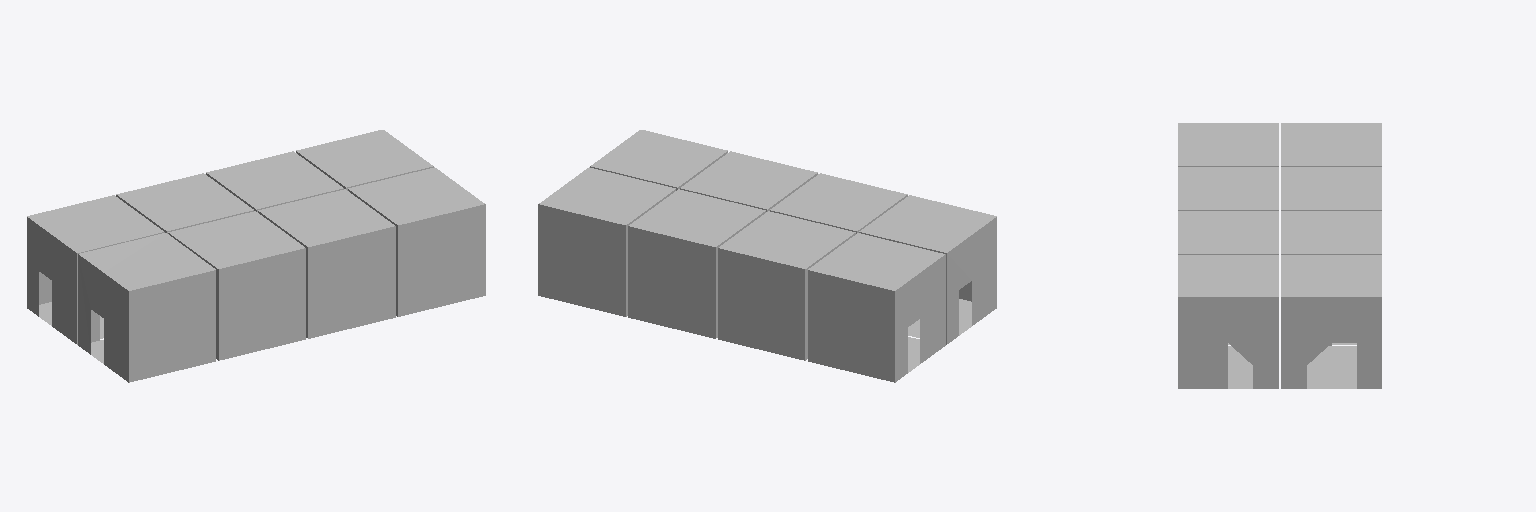
File: Walls.obj
The picture shows the model from 3 angles: view 1: azimuth 30°, elevation 25°; view 2: azimuth 150°, elevation 25°; view 3: azimuth 270°, elevation 25°; orthographic projection.
Visible parts, largest first — view 1: Cube.004; view 2: Cube.004; view 3: Cube.004.
Part boxes in pixels (left/top/right/bottom): Cube.004: left=27, top=130, right=485, bottom=382; Cube.004: left=538, top=130, right=996, bottom=382; Cube.004: left=1178, top=123, right=1381, bottom=388.
Size of the model in its own units: 8.15 by 2 by 4.05.